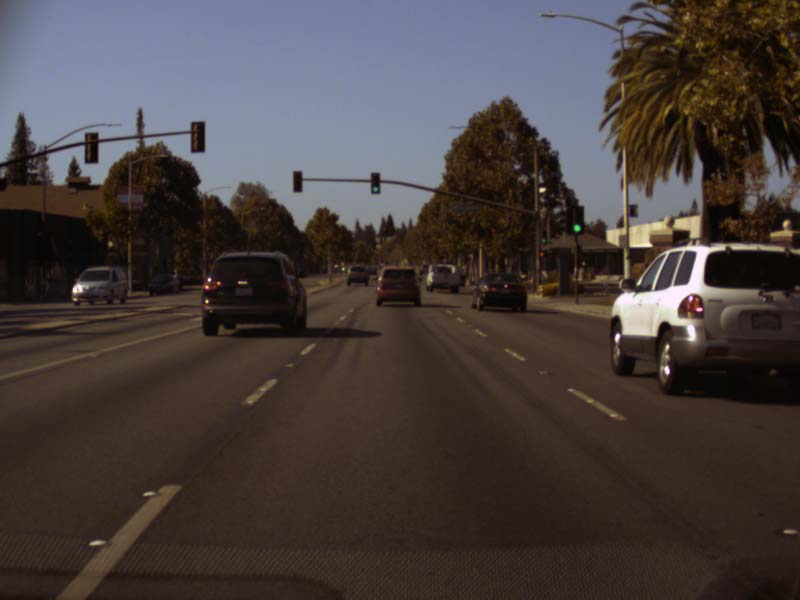Green: (571, 207, 583, 234), (370, 172, 380, 194), (540, 230, 547, 245)
Red: (539, 249, 546, 258)
